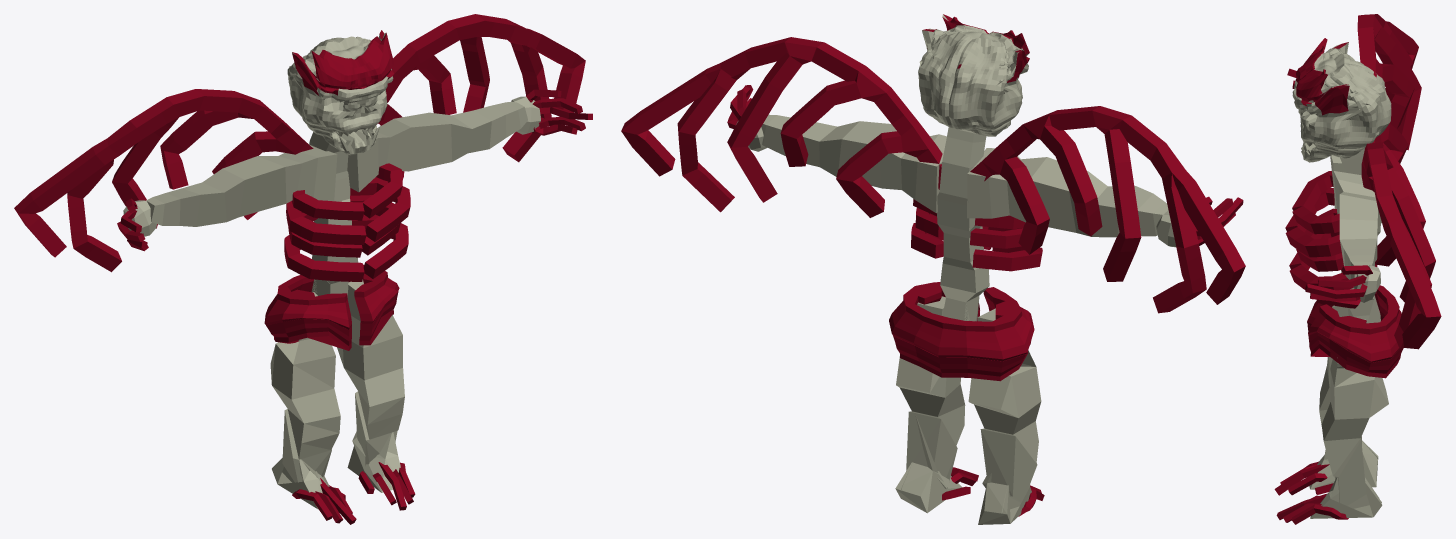
The model's file is skull.glb.
3 views of the same model, side by side, from view 1: azimuth 30°, elevation 25°; view 2: azimuth 150°, elevation 25°; view 3: azimuth 270°, elevation 25° (orthographic). The views are drawn at different scales.
Parts seen in each view (by area): view 1: alas, Brazos, Piernas, costillas, pelvis, head, head.001, manos, pies, columna, muñecas; view 2: alas, Piernas, Brazos, pelvis, head, columna, costillas, manos, pies, head.001, muñecas; view 3: alas, Piernas, head, pelvis, costillas, Brazos, head.001, pies, manos, columna, muñecas.
Part boxes in pixels (bbox=[...]): alas: bbox=[14, 14, 585, 272]; Brazos: bbox=[146, 101, 527, 226]; Piernas: bbox=[270, 279, 404, 509]; costillas: bbox=[284, 163, 410, 281]; pelvis: bbox=[264, 264, 399, 350]; head: bbox=[287, 33, 393, 155]; head.001: bbox=[292, 30, 394, 95]; manos: bbox=[117, 89, 592, 251]; pies: bbox=[292, 462, 415, 524]; columna: bbox=[309, 132, 358, 297]; muñecas: bbox=[123, 96, 540, 236]; alas: bbox=[621, 37, 1245, 313]; Piernas: bbox=[895, 296, 1041, 524]; Brazos: bbox=[761, 114, 1169, 237]; pelvis: bbox=[889, 282, 1034, 381]; head: bbox=[918, 14, 1028, 136]; columna: bbox=[937, 127, 989, 321]; costillas: bbox=[911, 199, 1042, 271]; manos: bbox=[727, 85, 1243, 245]; pies: bbox=[942, 467, 1044, 516]; head.001: bbox=[923, 14, 1029, 82]; muñecas: bbox=[736, 121, 1176, 247]; alas: bbox=[1357, 14, 1441, 349]; Piernas: bbox=[1309, 305, 1388, 518]; head: bbox=[1292, 42, 1391, 162]; pelvis: bbox=[1307, 285, 1403, 378]; costillas: bbox=[1285, 171, 1377, 290]; Brazos: bbox=[1330, 155, 1381, 279]; head.001: bbox=[1296, 38, 1376, 115]; pies: bbox=[1274, 461, 1348, 524]; manos: bbox=[1287, 68, 1372, 308]; columna: bbox=[1340, 148, 1380, 323]; muñecas: bbox=[1353, 265, 1380, 302].
Bounding box in the file's own units: 7.75 × 5.88 × 1.98.
